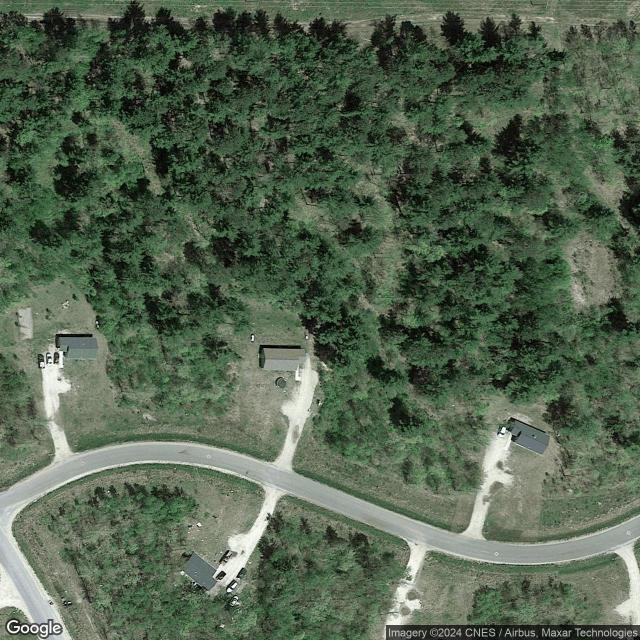Propane: (95, 320, 100, 330), (250, 333, 255, 342)
